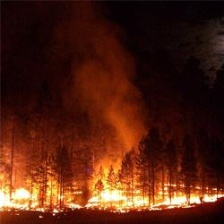fire: (1, 151, 223, 221)
